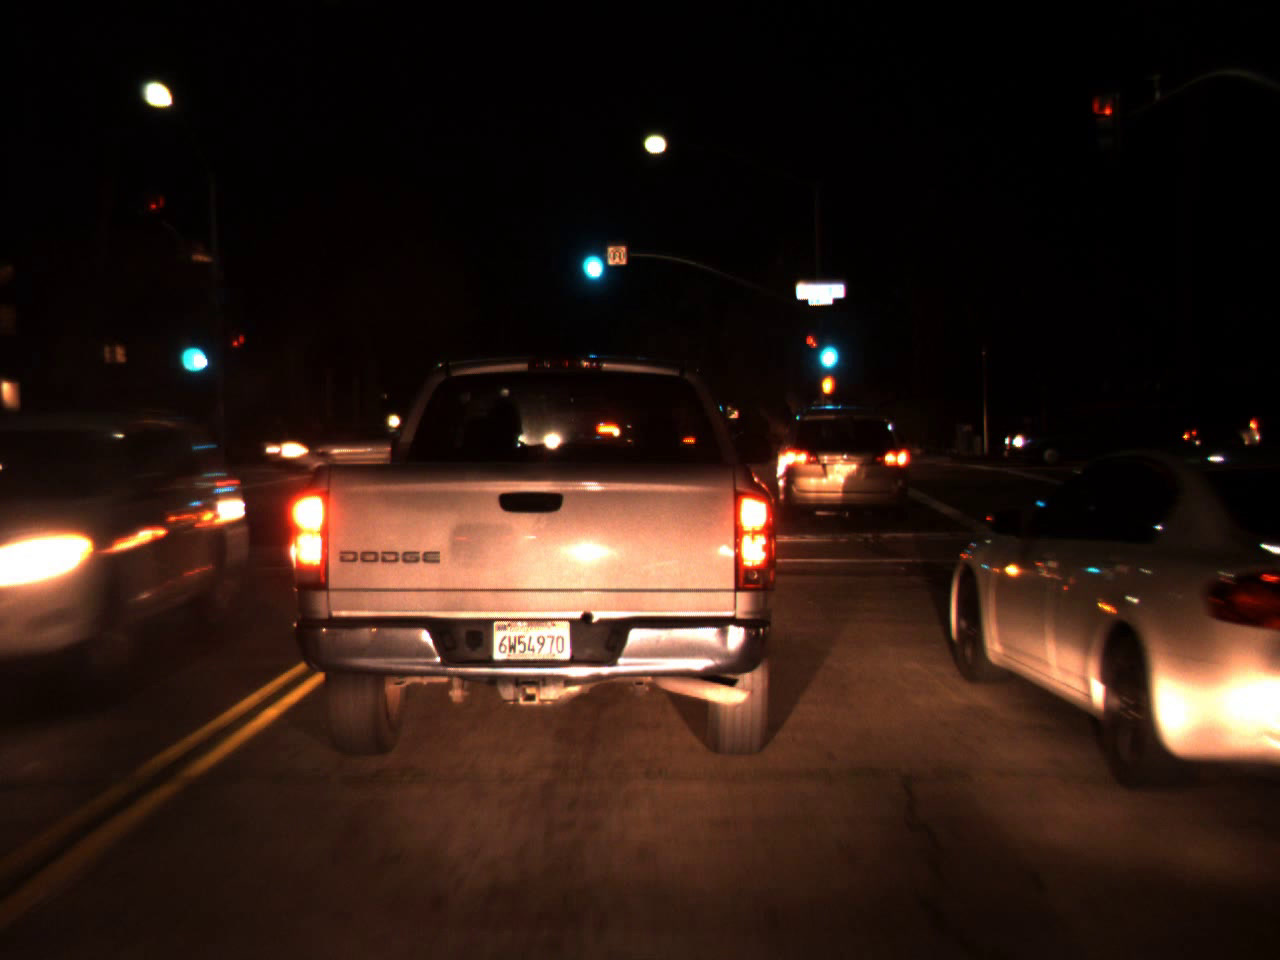go: (574, 225, 608, 288), (174, 320, 208, 377), (811, 318, 843, 378)
